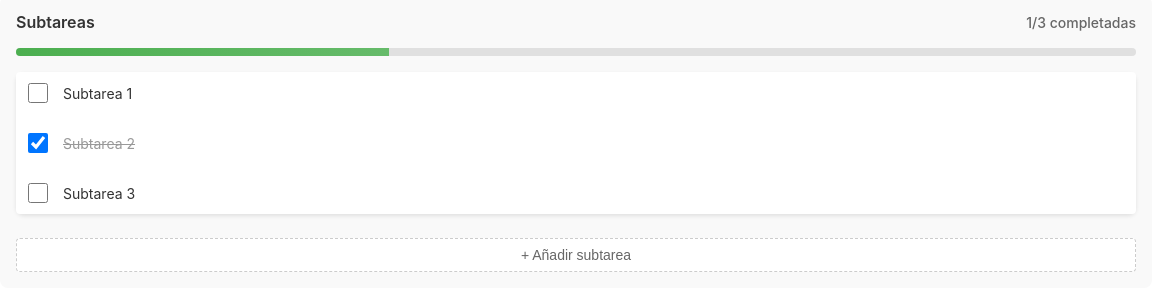
SubtaskChecklist › UI de añadir subtarea › debe mostrar input al hacer clic en añadir
The image size is (1152, 301).
Click the button "+ Añadir subtarea".
click(576, 255)  # box [16,238,1136,272]
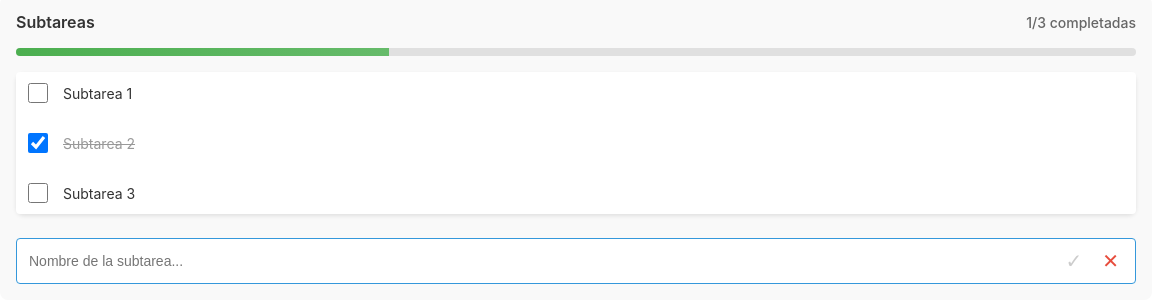
Check: the field with placeholder "Nombre de la subtarea..." is shown, box [25,249,1050,273]
